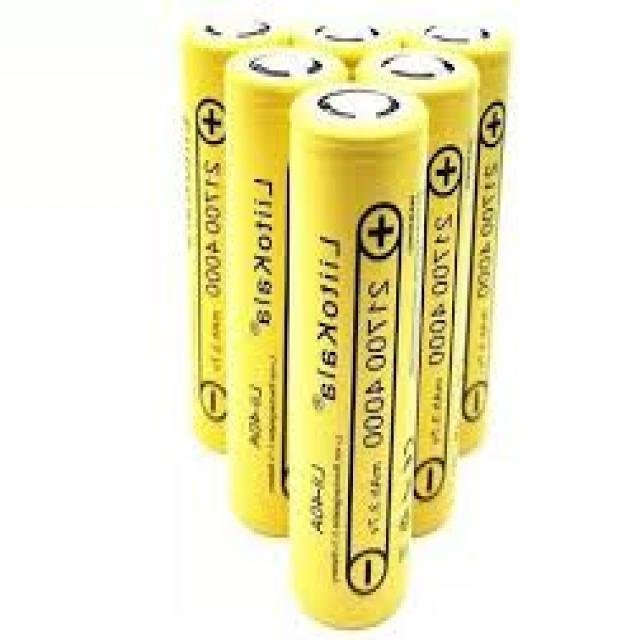battery: (290, 80, 428, 626), (352, 55, 480, 548), (229, 44, 347, 536), (186, 11, 271, 456), (424, 26, 508, 460)
